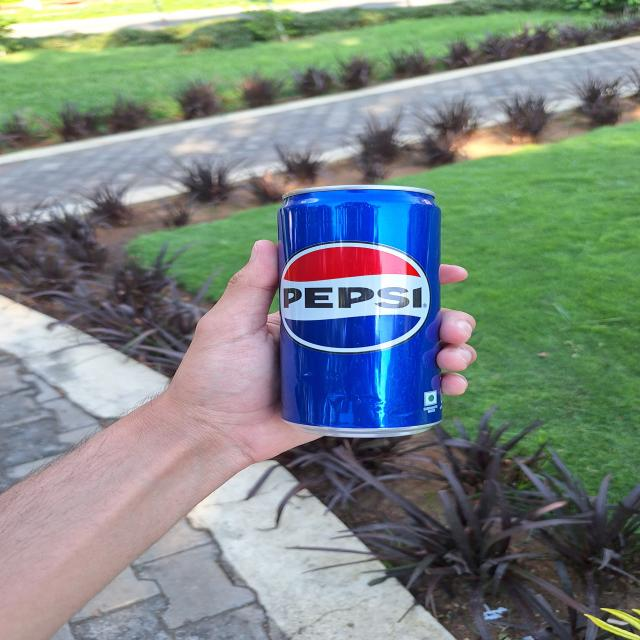Pepsi: (276, 189, 446, 429)
